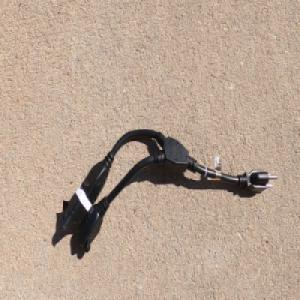Wire: (61, 126, 278, 253)
